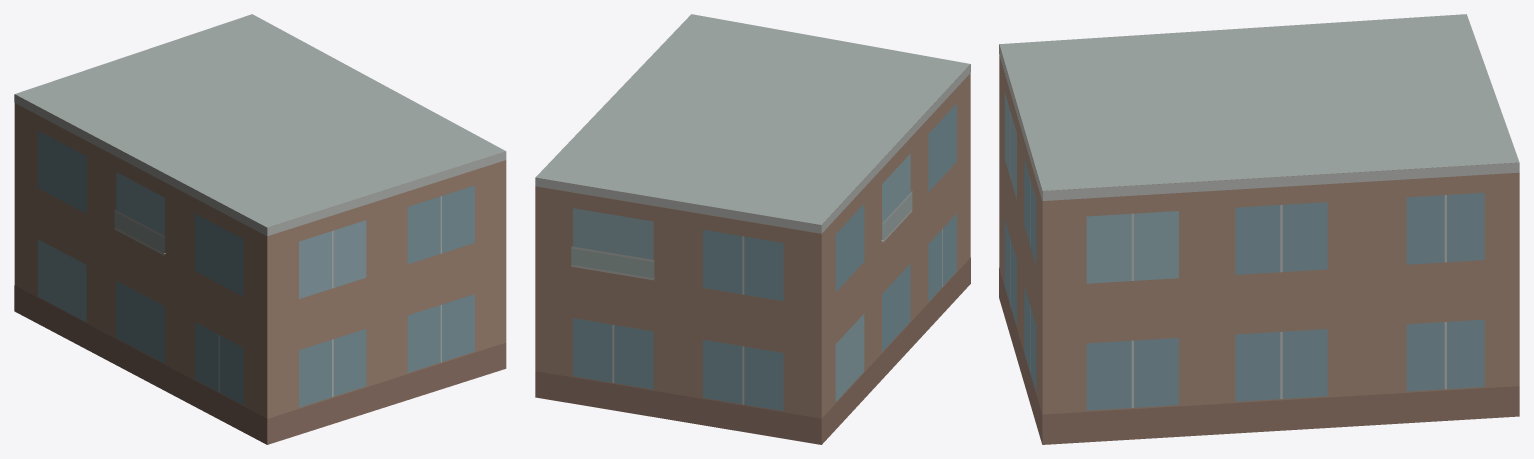
The model's file is survey-upis-32666986.glb.
3 renders of one model, left to right at view 1: azimuth 30°, elevation 25°; view 2: azimuth 150°, elevation 25°; view 3: azimuth 270°, elevation 25°, orthographic. The views are drawn at different scales.
Parts seen in each view (by area): view 1: survey-upis-32666986.tmp; view 2: survey-upis-32666986.tmp; view 3: survey-upis-32666986.tmp.
Boxes of the visible parts, <box> form: survey-upis-32666986.tmp: <box>14,14,506,444</box>; survey-upis-32666986.tmp: <box>535,14,970,444</box>; survey-upis-32666986.tmp: <box>999,14,1519,444</box>.
Size of the model in its own units: 9.13 by 6.1 by 11.34.
